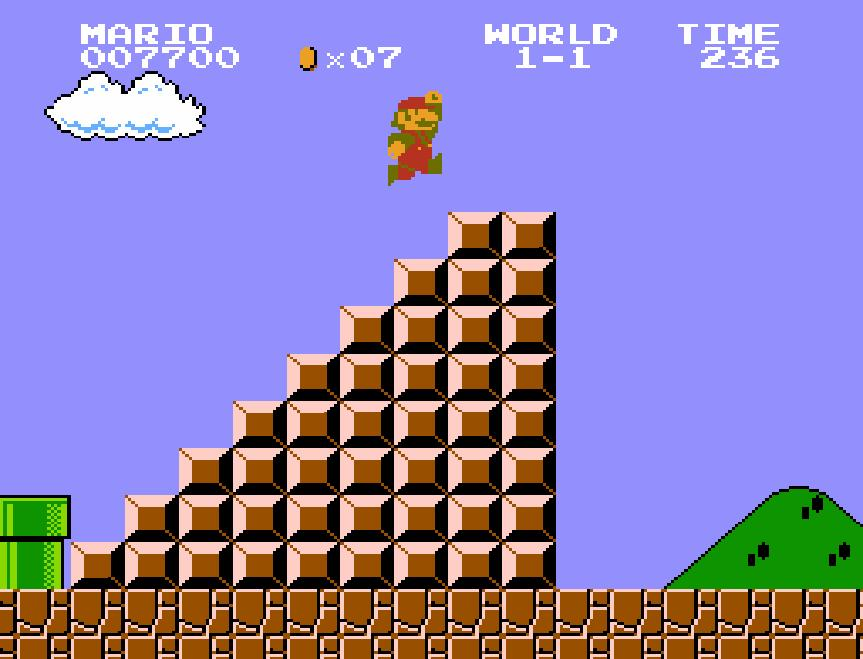big_mario: (386, 88, 444, 186)
